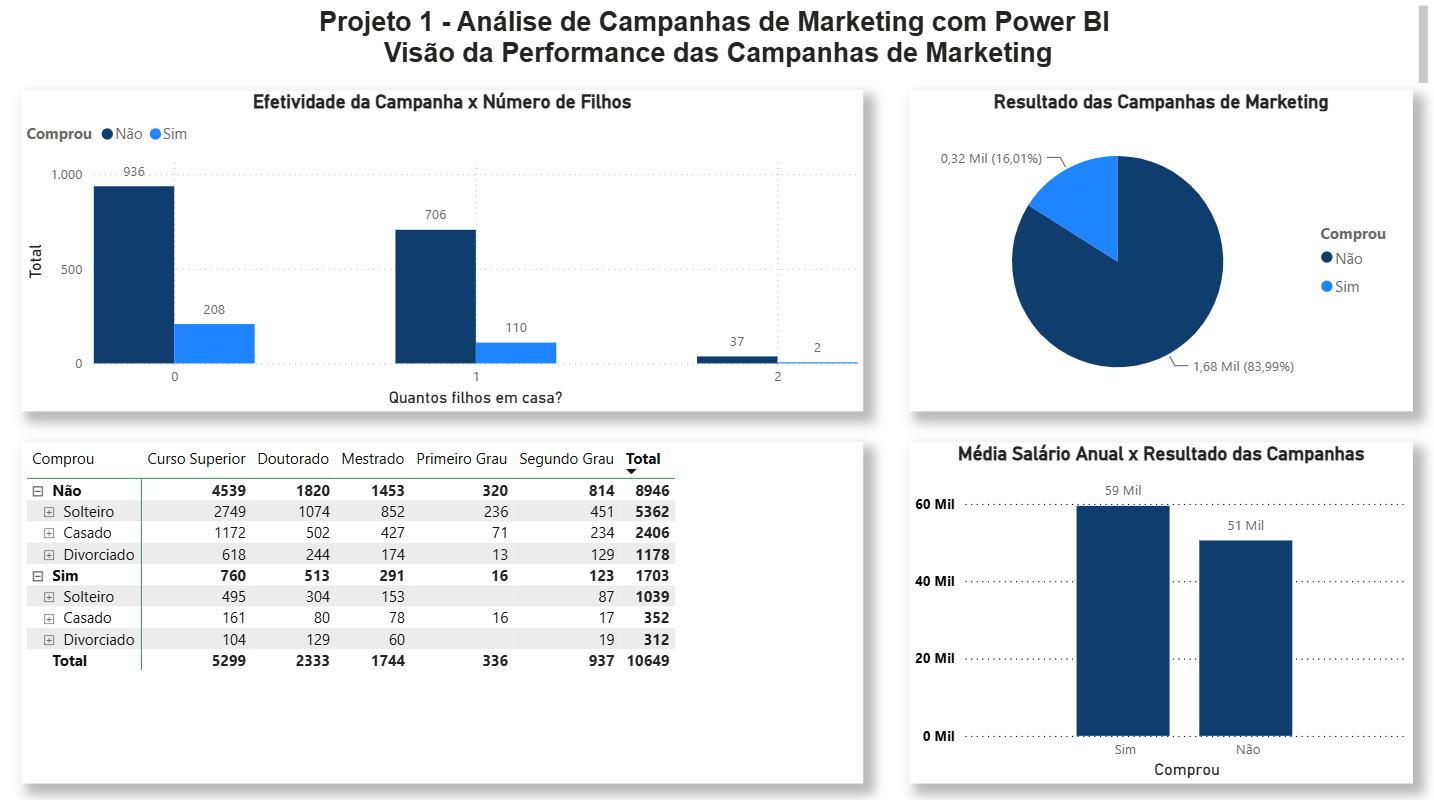

The page's visual inventory and layout, read from the dashboard file:
{"tool":"powerbi","page":{"name":"Visão Campanhas","canvas":[1280,720],"ordinal":2},"visuals":[{"type":"textbox","box":[9.9,0,1269.9,80.6],"z":0},{"type":"pieChart","title":"Resultado das Campanhas de Marketing","fields":{"Category":["DadosMarketing.Comprou"],"Y":["CountNonNull(DadosMarketing.ID)"]},"box":[811.3,80.6,450.4,287.5],"z":1000},{"type":"clusteredColumnChart","title":"Média Salário Anual x Resultado das Campanhas","fields":{"Category":["DadosMarketing.Comprou"],"Y":["Avg(DadosMarketing.Salario Anual)"]},"box":[811.3,394.9,450.4,305.4],"z":2000},{"type":"pivotTable","fields":{"Rows":["DadosMarketing.Comprou","DadosMarketing.Estado Civil","DadosMarketing.Pais"],"Values":["Sum(DadosMarketing.Numero Visitas WebSite Mes)"],"Columns":["DadosMarketing.Escolaridade"]},"box":[18.8,394.9,752.2,305.4],"z":3000},{"type":"clusteredColumnChart","title":"Efetividade da Campanha x Número de Filhos","fields":{"Category":["DadosMarketing.Filhos em Casa"],"Series":["DadosMarketing.Comprou"],"Y":["CountNonNull(DadosMarketing.Filhos em Casa)"]},"box":[18.8,80.6,752.2,287.5],"z":4000}]}

Visuals, with their boxes in screenshot pixels (x1, y1, x2, y2), scaled from the page's 1280x720 canvas onto the 1434x800 screenshot:
textbox: pyautogui.locateOnScreen(11, 0, 1433, 90)
"Resultado das Campanhas de Marketing" pieChart: pyautogui.locateOnScreen(909, 90, 1413, 409)
"Média Salário Anual x Resultado das Campanhas" clusteredColumnChart: pyautogui.locateOnScreen(909, 439, 1413, 778)
pivotTable - DadosMarketing.Comprou x DadosMarketing.Estado Civil: pyautogui.locateOnScreen(21, 439, 864, 778)
"Efetividade da Campanha x Número de Filhos" clusteredColumnChart: pyautogui.locateOnScreen(21, 90, 864, 409)
